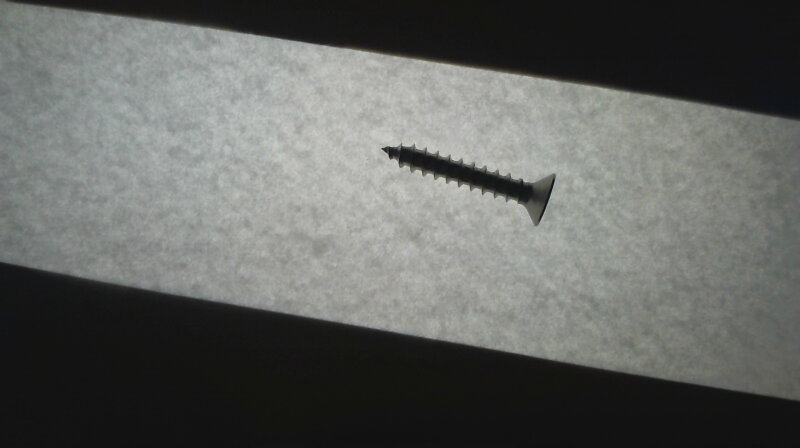S001: (378, 141, 557, 228)
